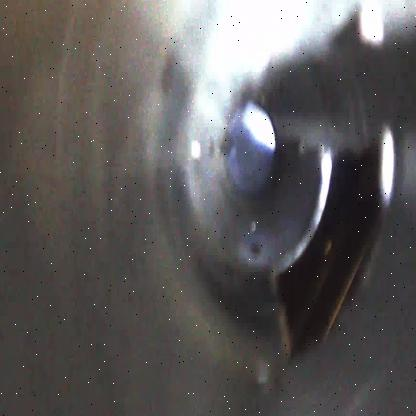Crack2: (272, 150, 387, 363)
